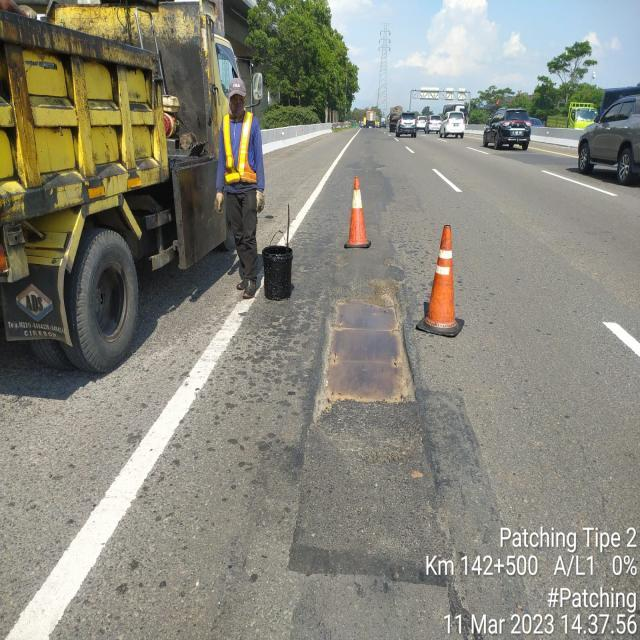Buraco: (305, 274, 424, 428)
